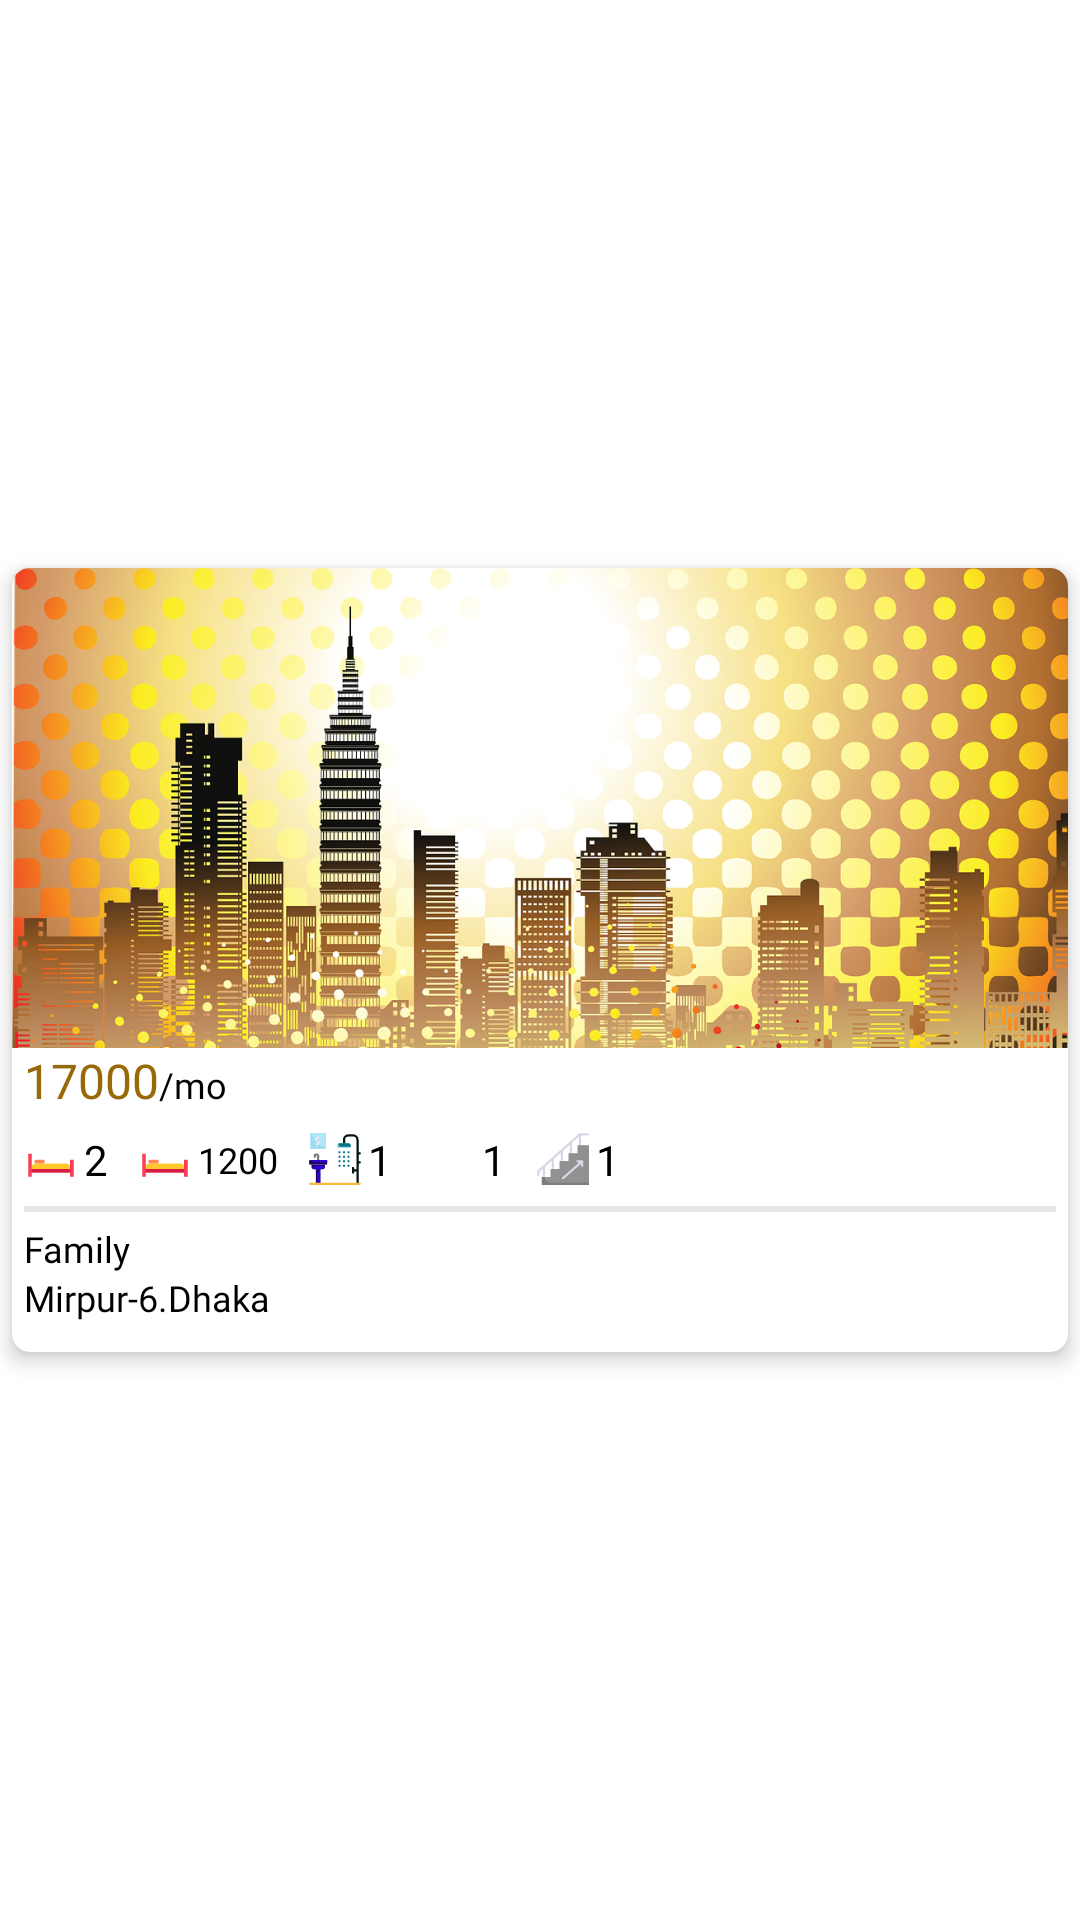

Locate icon controls on the screen. Image size 1080*1920, boxes as (x1, y1, x2, y2).
bathroom: (309, 1133, 361, 1185)
bed: (28, 1153, 74, 1177), (142, 1153, 188, 1177)
stairs: (537, 1133, 589, 1185)
